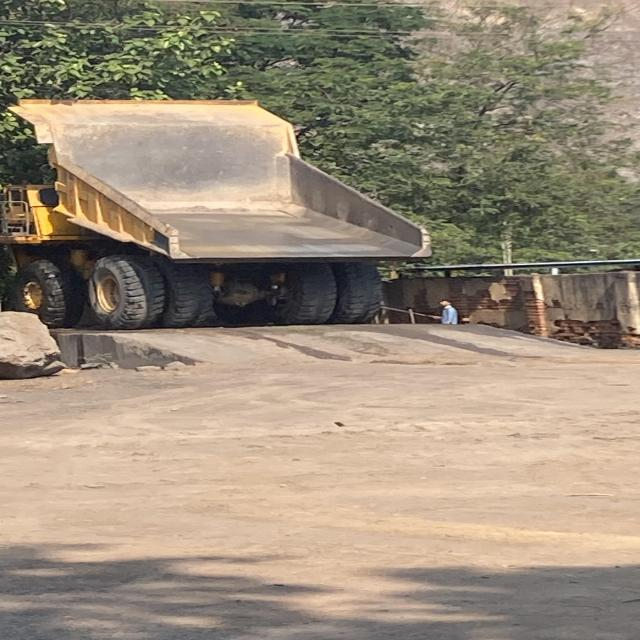dump_truck: (0, 84, 422, 326)
